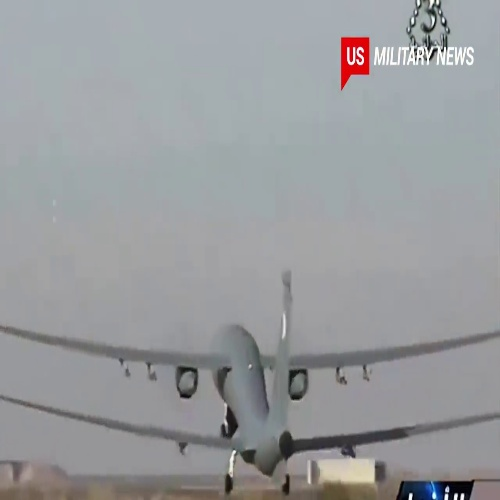uav172: (1, 270, 498, 495)
